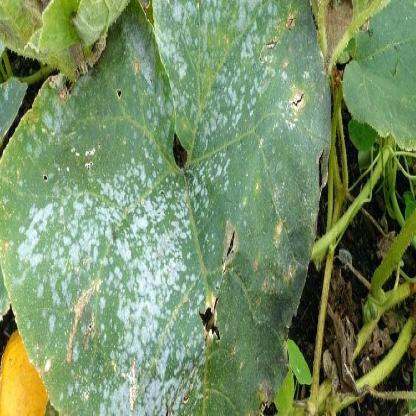Squash Powdery mildew leaf: (12, 1, 315, 411)
